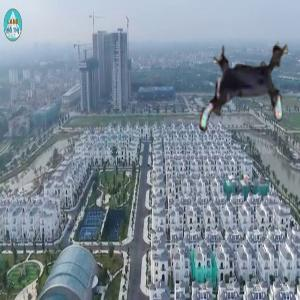drone: (192, 35, 299, 142)
